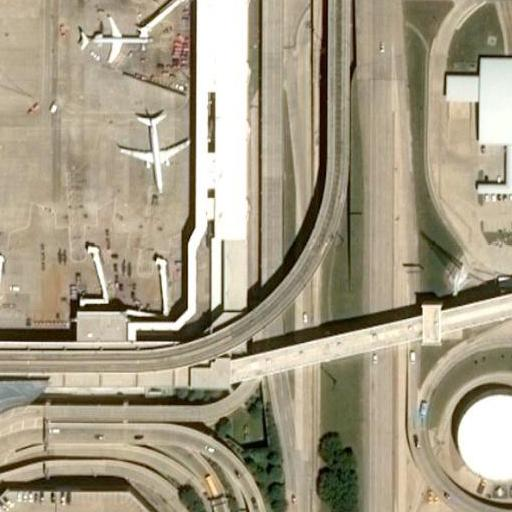Aircraft: (121, 102, 189, 204), (74, 1, 158, 65)
